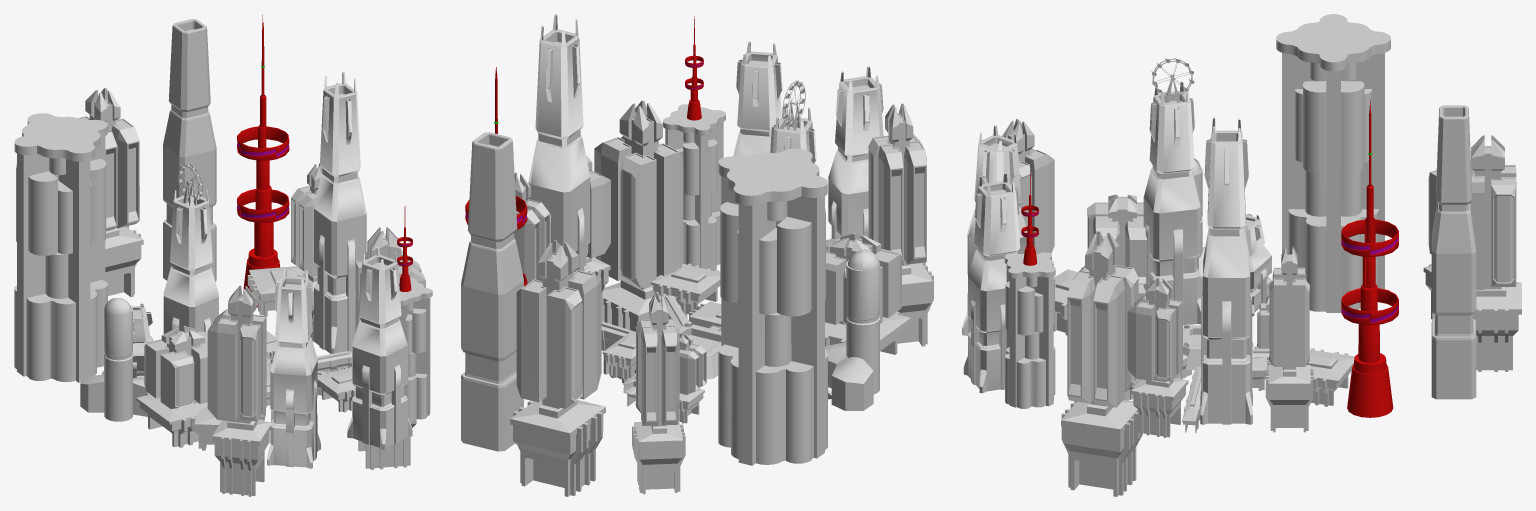
The model's file is SummerInTheCity4.FBX.
3 views of the same model, side by side, from view 1: azimuth 30°, elevation 25°; view 2: azimuth 150°, elevation 25°; view 3: azimuth 270°, elevation 25° (orthographic). The views are drawn at different scales.
Parts seen in each view (by area): view 1: Object002; view 2: Object002; view 3: Object002.
Boxes of the visible parts, x1,y1,x2,y2 form: Object002: (14,14,432,496); Object002: (461,14,933,496); Object002: (962,14,1521,496).
Size of the model in its own units: 13699 by 14800 by 19353.
